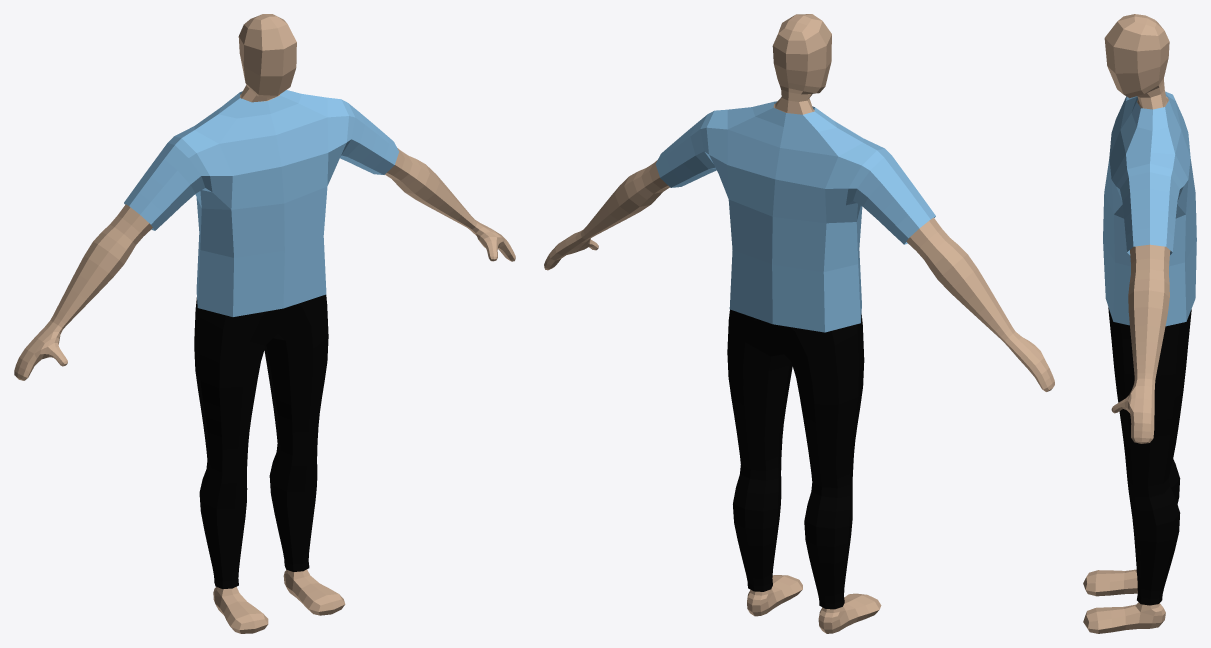
Rendered from Male.fbx.
3 views of the same model, side by side, from view 1: azimuth 30°, elevation 25°; view 2: azimuth 150°, elevation 25°; view 3: azimuth 270°, elevation 25° (orthographic).
Visible parts, largest first — view 1: Vert.001, Vert.002, Vert; view 2: Vert.001, Vert.002, Vert; view 3: Vert.001, Vert, Vert.002.
Boxes of the visible parts, bbox=[...] form: Vert.001: bbox=[124, 90, 398, 316]; Vert.002: bbox=[194, 294, 328, 589]; Vert: bbox=[14, 14, 515, 633]; Vert.001: bbox=[655, 101, 935, 332]; Vert.002: bbox=[727, 309, 864, 609]; Vert: bbox=[544, 14, 1054, 633]; Vert.001: bbox=[1103, 91, 1196, 326]; Vert: bbox=[1083, 14, 1170, 633]; Vert.002: bbox=[1108, 307, 1191, 605].
Size of the model in its own units: 550 by 627 by 109.
